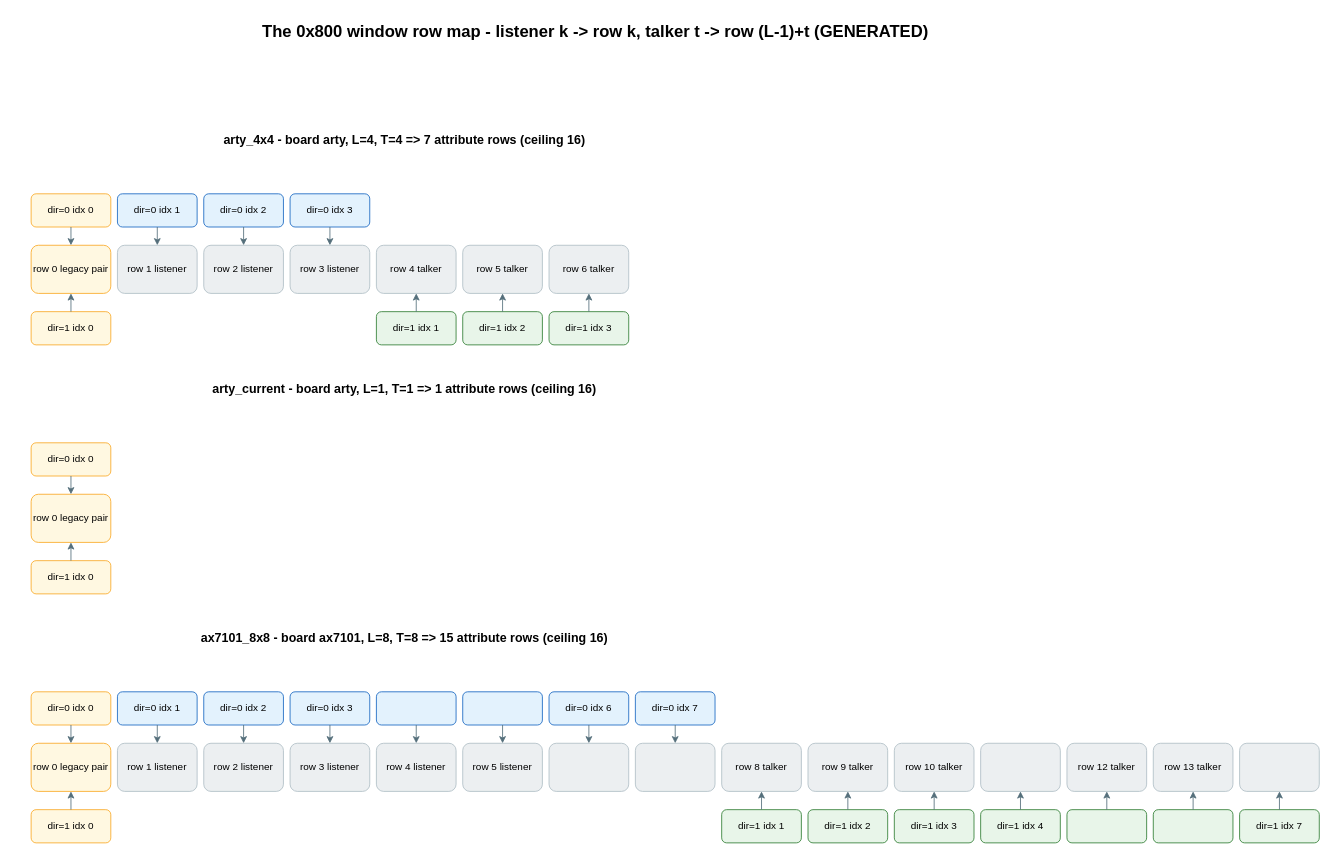
The diagram is 1334 pixels wide and 857 high, and some of its shapes have lost their labels. The centre of each missing label's shape, as x and y in pixels:
dir=0 idx 4: the point at 416,708
dir=0 idx 5: the point at 502,708
dir=1 idx 5: the point at 1106,826
dir=1 idx 6: the point at 1192,826
row 11 talker: the point at 1020,766
row 14 talker: the point at 1279,766
row 6 listener: the point at 588,766
row 7 listener: the point at 675,766
